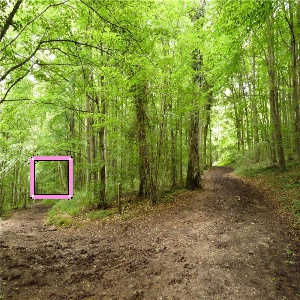square: (28, 153, 77, 202)
